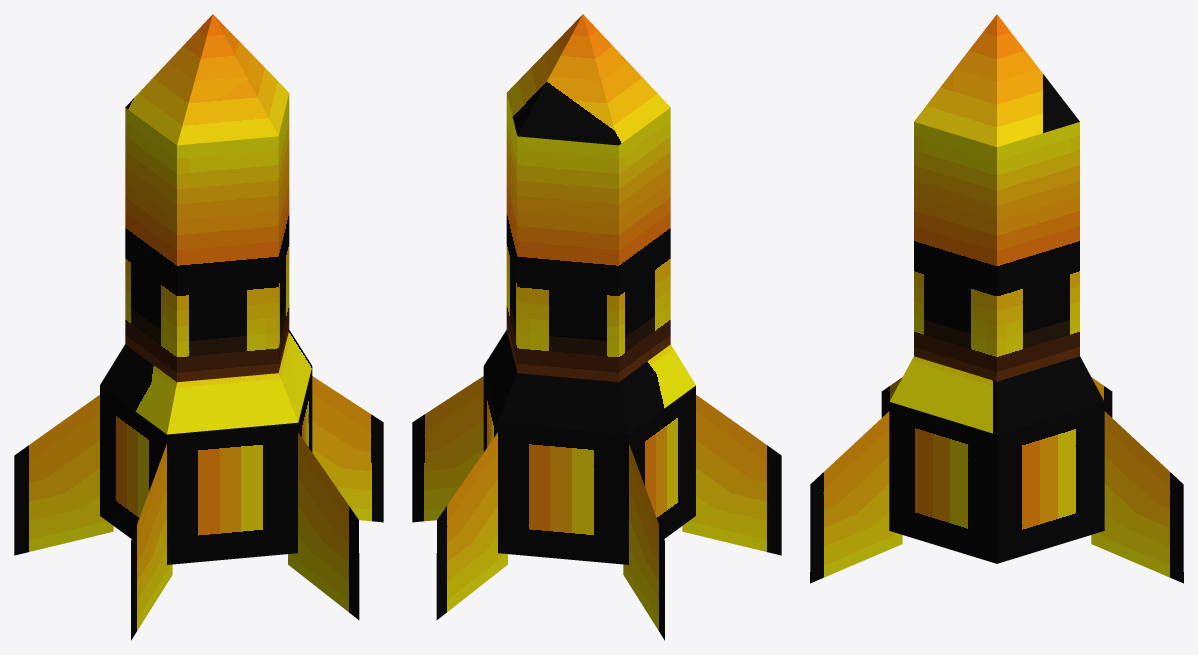
Rendered from missile.fbx.
The picture shows the model from 3 angles, left to right: view 1: azimuth 30°, elevation 25°; view 2: azimuth 150°, elevation 25°; view 3: azimuth 270°, elevation 25°; orthographic projection.
Visible parts, largest first — view 1: mesh2, mesh1; view 2: mesh2, mesh1; view 3: mesh2, mesh1.
Part boxes in pixels (x1,y1,x2,y2): mesh2: [100, 14, 312, 564]; mesh1: [14, 376, 383, 640]; mesh2: [483, 14, 695, 564]; mesh1: [412, 376, 781, 640]; mesh2: [889, 14, 1104, 563]; mesh1: [810, 377, 1183, 583].
Size of the model in its own units: 45.95 by 77.64 by 48.29.
